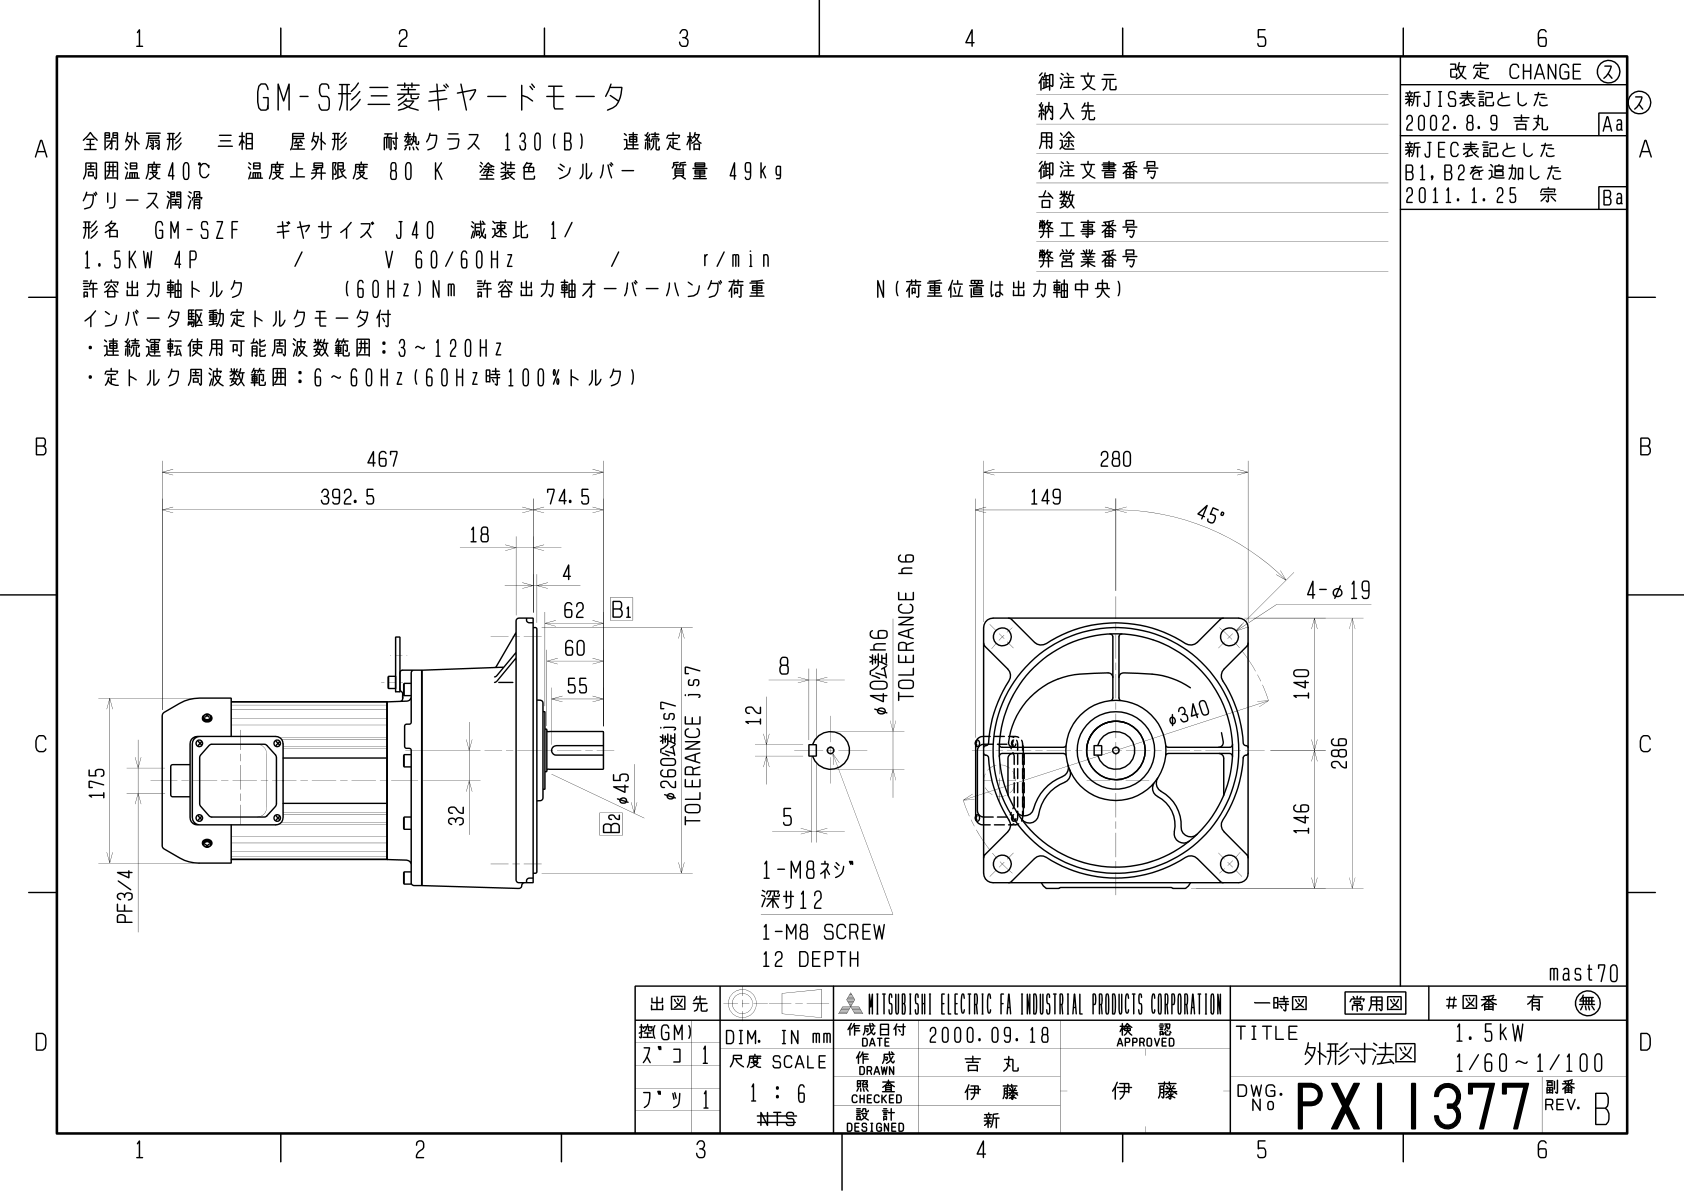GM_S_インバタ屋外＿三相_フランジ: (79, 406, 1386, 974)
